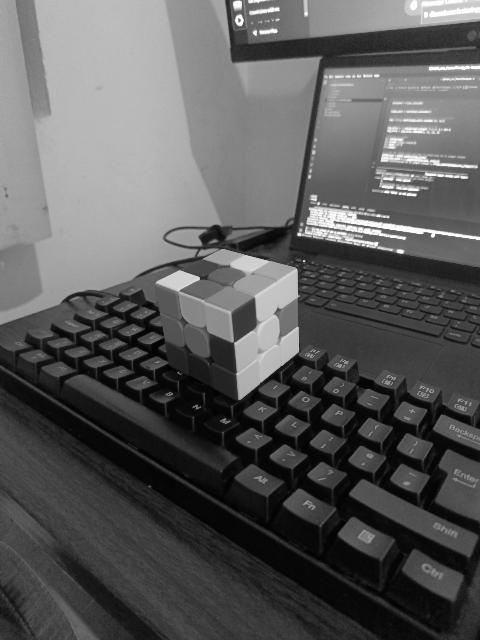rubik: (154, 246, 300, 399)
